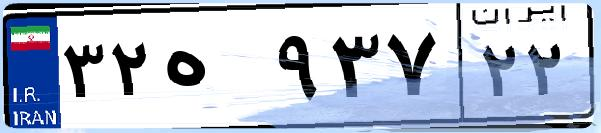2: (475, 38, 525, 113), (525, 38, 570, 115), (110, 28, 158, 98)
3: (330, 28, 385, 110), (57, 26, 110, 100)
7: (385, 28, 445, 110)
9: (270, 28, 330, 110)
ه: (158, 20, 270, 120)
